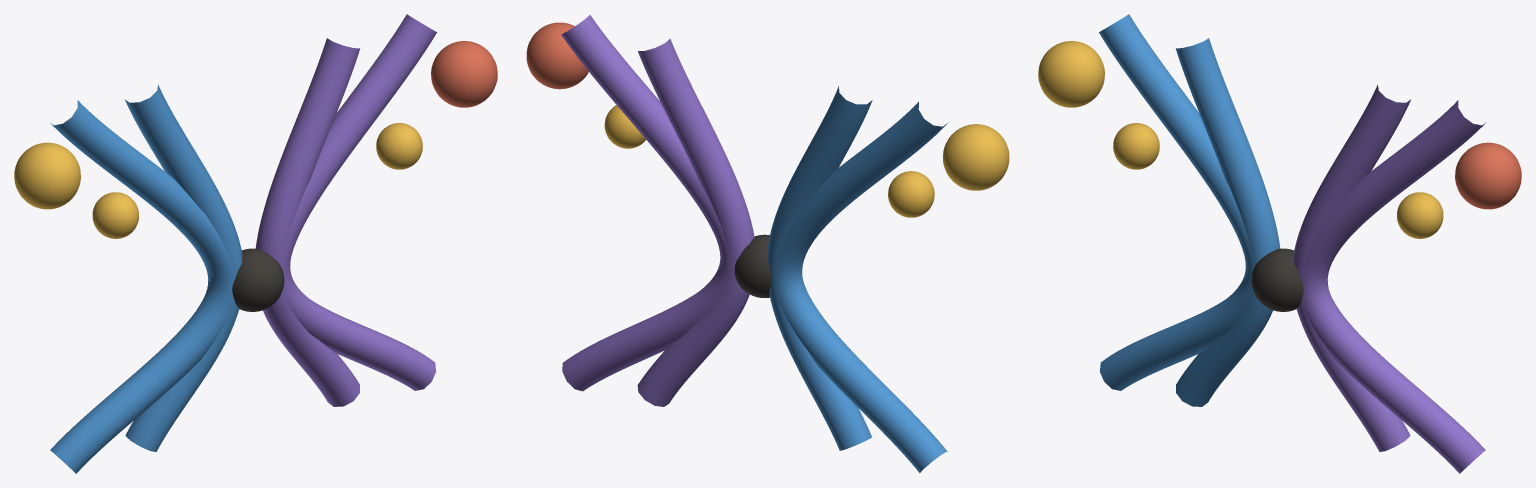
Rendered from bio-genetics-allele.glb.
3 views of the same model, side by side, from view 1: azimuth 30°, elevation 25°; view 2: azimuth 150°, elevation 25°; view 3: azimuth 330°, elevation 25° (orthographic).
Visible parts, largest first — view 1: same-gene-position-maternal-chromatid-b, same-gene-position-paternal-chromatid-b, same-gene-position-paternal-chromatid-a, same-gene-position-maternal-chromatid-a, allele-version-b-marker, allele-version-a-marker, same-gene-position-centromere, same-gene-position-matching-gene-locus-right, same-gene-position-matching-gene-locus-left; view 2: same-gene-position-maternal-chromatid-b, same-gene-position-paternal-chromatid-b, same-gene-position-paternal-chromatid-a, same-gene-position-maternal-chromatid-a, allele-version-a-marker, allele-version-b-marker, same-gene-position-centromere, same-gene-position-matching-gene-locus-left, same-gene-position-matching-gene-locus-right; view 3: same-gene-position-paternal-chromatid-b, same-gene-position-maternal-chromatid-b, same-gene-position-maternal-chromatid-a, same-gene-position-paternal-chromatid-a, allele-version-a-marker, allele-version-b-marker, same-gene-position-centromere, same-gene-position-matching-gene-locus-left, same-gene-position-matching-gene-locus-right.
Part boxes in pixels (x1,y1,x2,y2): same-gene-position-maternal-chromatid-b: (50,100,234,473); same-gene-position-paternal-chromatid-b: (282,14,436,390); same-gene-position-paternal-chromatid-a: (255,38,360,406); same-gene-position-maternal-chromatid-a: (125,84,242,451); allele-version-b-marker: (431,41,497,107); allele-version-a-marker: (14,142,80,209); same-gene-position-centromere: (232,248,284,311); same-gene-position-matching-gene-locus-right: (376,123,422,169); same-gene-position-matching-gene-locus-left: (92,192,139,238); same-gene-position-maternal-chromatid-b: (772,101,947,472); same-gene-position-paternal-chromatid-b: (561,15,733,391); same-gene-position-paternal-chromatid-a: (637,38,754,406); same-gene-position-maternal-chromatid-a: (767,86,872,450); allele-version-a-marker: (943,124,1009,190); allele-version-b-marker: (526,22,588,89); same-gene-position-centromere: (734,234,771,297); same-gene-position-matching-gene-locus-left: (888,171,934,217); same-gene-position-matching-gene-locus-right: (604,105,646,148); same-gene-position-paternal-chromatid-b: (1301,100,1485,473); same-gene-position-maternal-chromatid-b: (1099,14,1253,390); same-gene-position-maternal-chromatid-a: (1175,38,1280,406); same-gene-position-paternal-chromatid-a: (1293,84,1410,451); allele-version-a-marker: (1038,41,1104,107); allele-version-b-marker: (1455,142,1521,209); same-gene-position-centromere: (1251,248,1303,311); same-gene-position-matching-gene-locus-left: (1113,123,1159,169); same-gene-position-matching-gene-locus-right: (1396,192,1443,238).
Size of what is drawn, in the model's own units: 1.64 by 1.23 by 0.2349.
